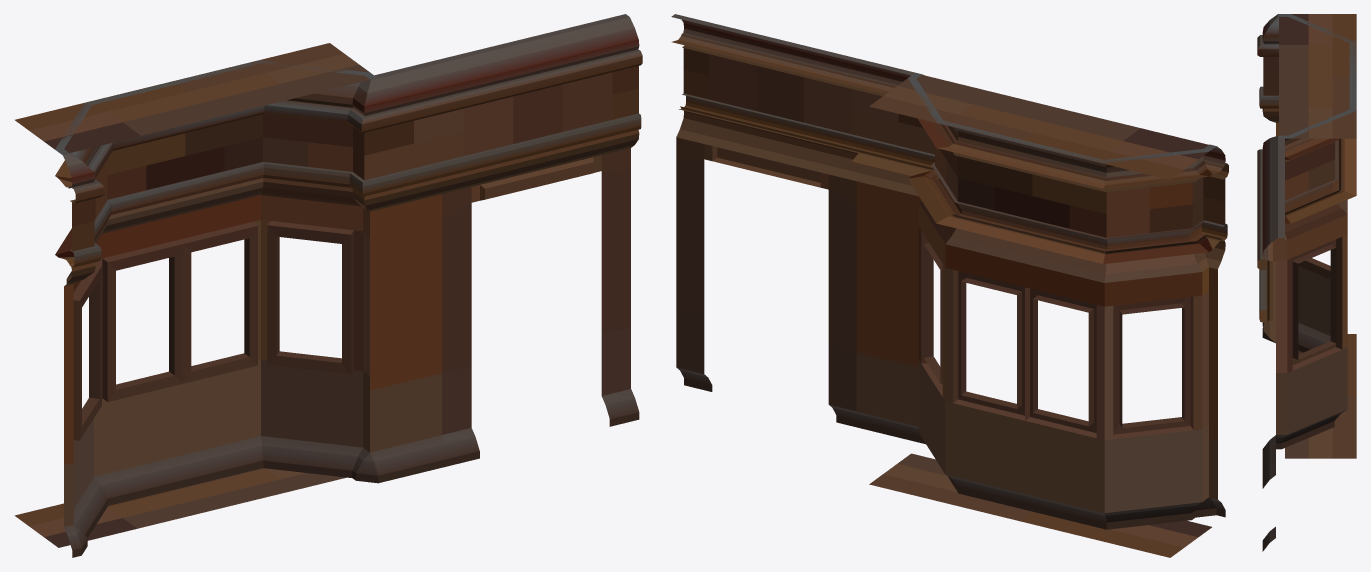
File: Wall_HomeA-4WindowADoor-L6m.fbx
3 renders of one model, left to right at view 1: azimuth 30°, elevation 25°; view 2: azimuth 150°, elevation 25°; view 3: azimuth 270°, elevation 25°, orthographic. The views are drawn at different scales.
Parts seen in each view (by area): view 1: Wall_HomeA-4WindowADoor-L6m; view 2: Wall_HomeA-4WindowADoor-L6m; view 3: Wall_HomeA-4WindowADoor-L6m.
Boxes of the visible parts, x1,y1,x2,y2 form: Wall_HomeA-4WindowADoor-L6m: (14, 14, 642, 557); Wall_HomeA-4WindowADoor-L6m: (671, 14, 1228, 557); Wall_HomeA-4WindowADoor-L6m: (1257, 14, 1356, 551).
Bounding box in the file's own units: 600 × 400 × 112.
